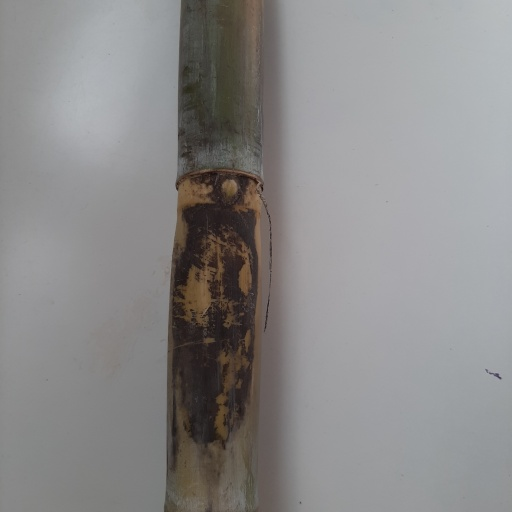Bud: (216, 176, 241, 208)
